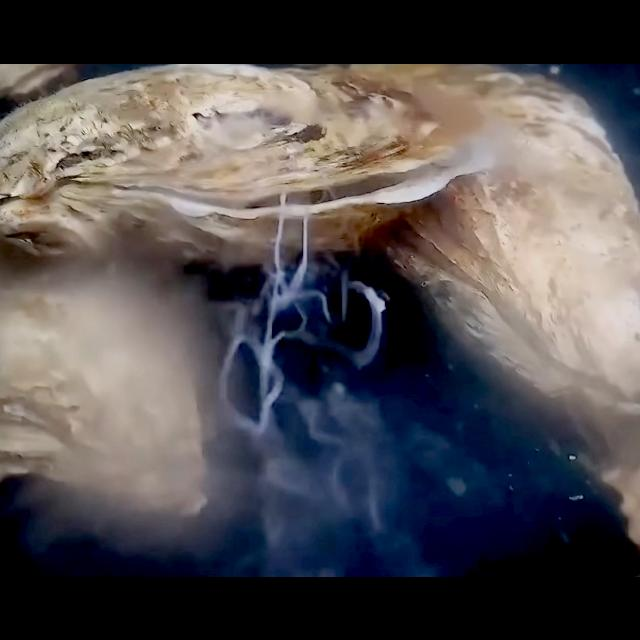Oyster-Closed: (348, 64, 640, 418), (0, 284, 208, 518)
Oyster-Open: (0, 63, 494, 261), (0, 63, 68, 95)
